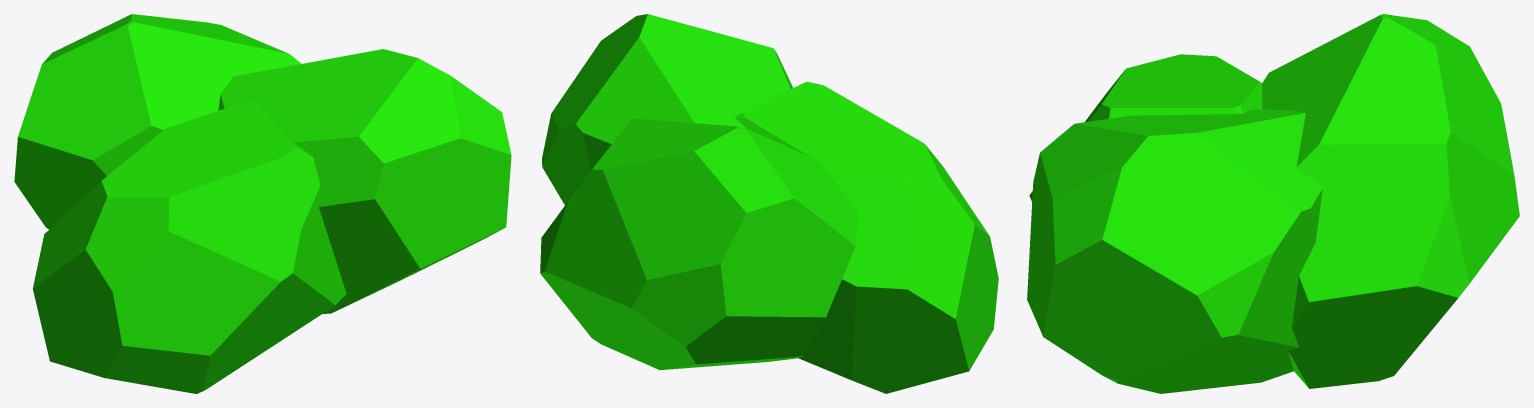
Rendered from Arbusto_2.fbx.
3 views of the same model, side by side, from view 1: azimuth 30°, elevation 25°; view 2: azimuth 150°, elevation 25°; view 3: azimuth 270°, elevation 25° (orthographic). The views are drawn at different scales.
Parts seen in each view (by area): view 1: carbon.001; view 2: carbon.001; view 3: carbon.001.
Boxes of the visible parts, x1,y1,x2,y2 form: carbon.001: (14,14,511,393); carbon.001: (540,14,998,393); carbon.001: (1027,14,1519,393).
Size of the model in its own units: 0.6107 by 0.4084 by 0.5292.
